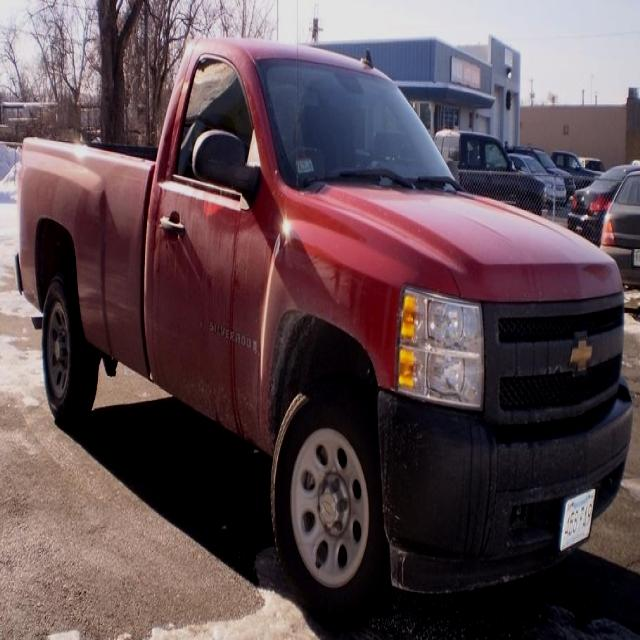CMT: (12, 38, 622, 610)
